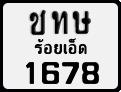letters: (71, 10, 92, 35), (40, 60, 60, 85), (29, 8, 46, 36), (61, 61, 80, 86), (51, 9, 69, 35), (81, 61, 100, 85), (23, 60, 35, 85)
province: (34, 38, 88, 56)
